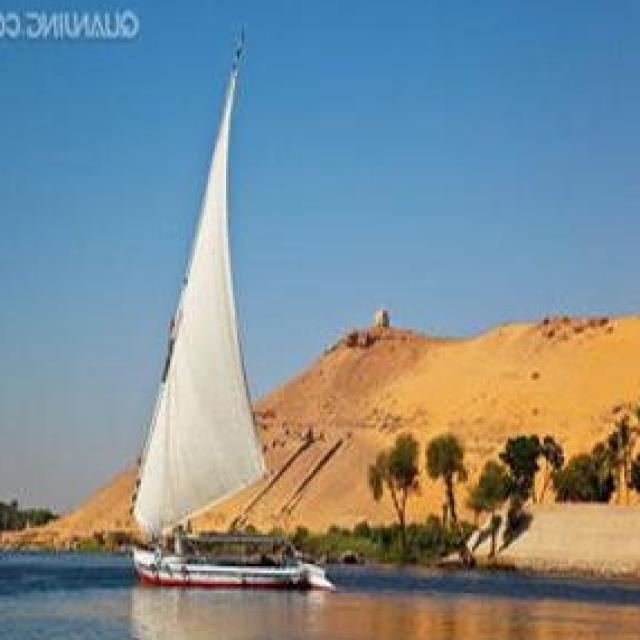sailboat: (121, 20, 329, 609)
